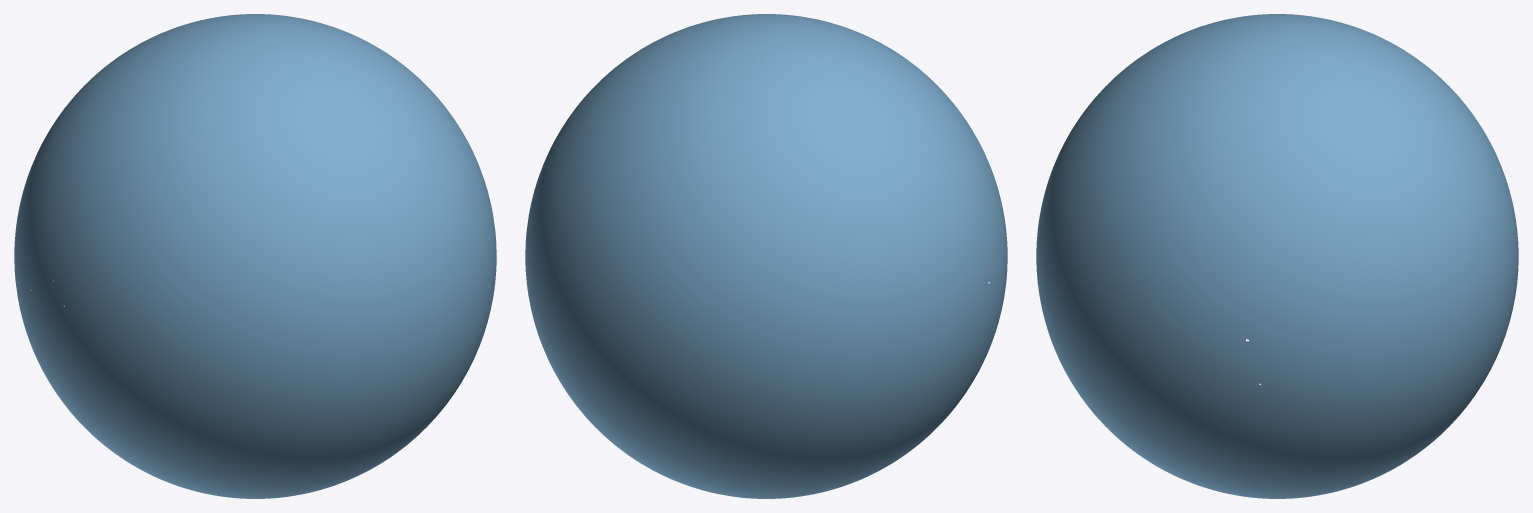
The model's file is celula_prometafase.glb.
The picture shows the model from 3 angles, left to right: view 1: azimuth 30°, elevation 25°; view 2: azimuth 150°, elevation 25°; view 3: azimuth 270°, elevation 25°; orthographic projection.
Parts seen in each view (by area): view 1: MembranaCelular; view 2: MembranaCelular; view 3: MembranaCelular.
Part boxes in pixels (<box>): MembranaCelular: <box>14,14,496,498</box>; MembranaCelular: <box>525,14,1007,498</box>; MembranaCelular: <box>1036,14,1518,498</box>.
Bounding box in the file's own units: 15.8 × 15.96 × 15.8.
